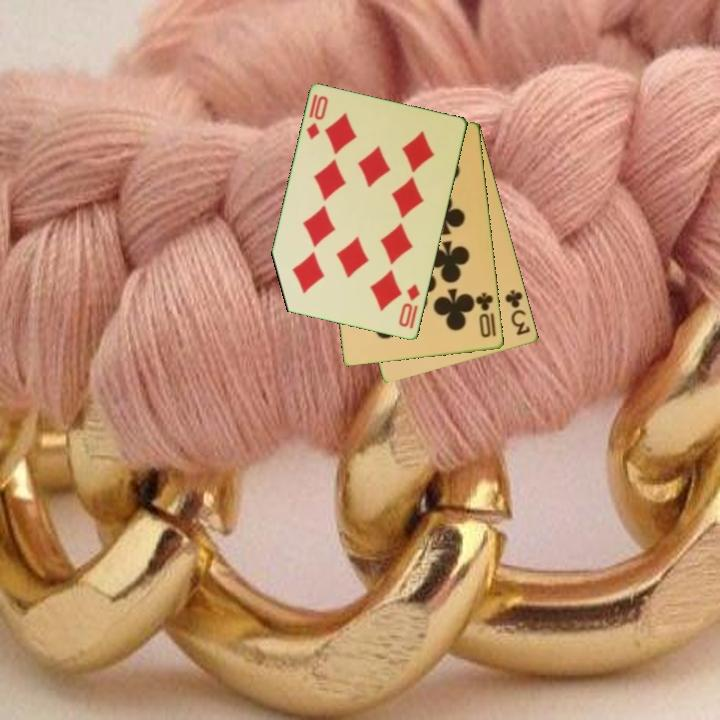10c: (472, 289, 496, 341)
10d: (303, 92, 331, 143), (396, 280, 423, 330)
3c: (502, 286, 533, 339)
